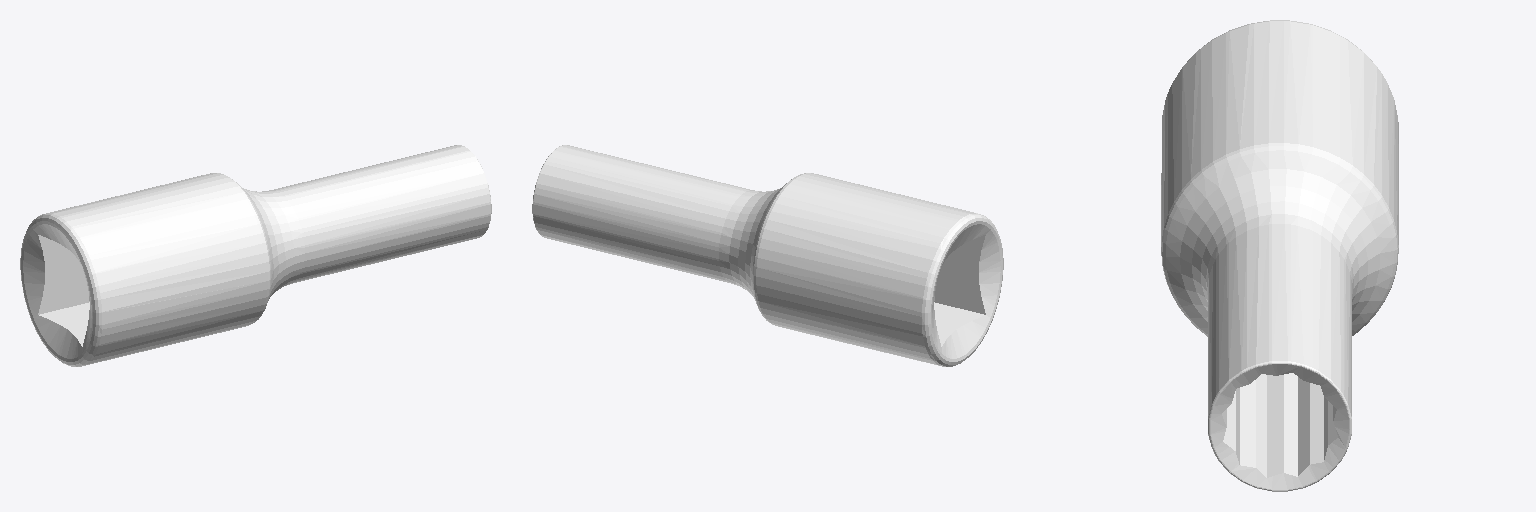
The robot description file, URDF, robot "M6_sleeve":
<?xml version="1.0" encoding="utf-8"?>
<!-- This URDF was automatically created by SolidWorks to URDF Exporter! Originally created by [author] ([email redacted]) 
     Commit Version: 1.6.0-4-g7f85cfe  Build Version: 1.6.7995.38578
     For more information, please see http://wiki.ros.org/sw_urdf_exporter -->
<robot
  name="M6_sleeve">
  <link
    name="M6_sleeve_base_link">
    <inertial>
      <origin
        xyz="-1.1059E-17 1.8063E-16 0.02484"
        rpy="0 0 0" />
      <mass
        value="0.010651" />
      <inertia
        ixx="3.3923E-06"
        ixy="0"
        ixz="2.953E-21"
        iyy="3.3923E-06"
        iyz="-4.8236E-20"
        izz="8.1338E-07" />
    </inertial>
    <visual>
      <origin
        xyz="0 0 0"
        rpy="0 0 0" />
      <geometry>
        <mesh
          filename="package://M6_sleeve/meshes/M6_sleeve_base_link.STL" />
      </geometry>
      <material
        name="">
        <color
          rgba="1 1 1 1" />
      </material>
    </visual>
    <collision>
      <origin
        xyz="0 0 0"
        rpy="0 0 0" />
      <geometry>
        <mesh
          filename="package://M6_sleeve/meshes/M6_sleeve_base_link.STL" />
      </geometry>
    </collision>
  </link>
</robot>

--- Facts derived from the render (not from the file) ---
The picture shows the robot from 3 angles, left to right: view 1: azimuth 30°, elevation 25°; view 2: azimuth 150°, elevation 25°; view 3: azimuth 270°, elevation 25°; orthographic projection.
Robot: M6_sleeve — 1 links, 0 joints (none); root link M6_sleeve_base_link; default pose: every joint at zero.
Links seen in each view (by area): view 1: M6_sleeve_base_link; view 2: M6_sleeve_base_link; view 3: M6_sleeve_base_link.
Boxes of the visible links, x1,y1,x2,y2 form: M6_sleeve_base_link: (20,145,491,366); M6_sleeve_base_link: (532,145,1003,366); M6_sleeve_base_link: (1161,20,1398,491).
Bounding box of the posed robot: 0.0693 × 0.023 × 0.023 m (x, y, z).
Meshes: 1 distinct files referenced, 1 mesh visuals loaded (1 binary STL).